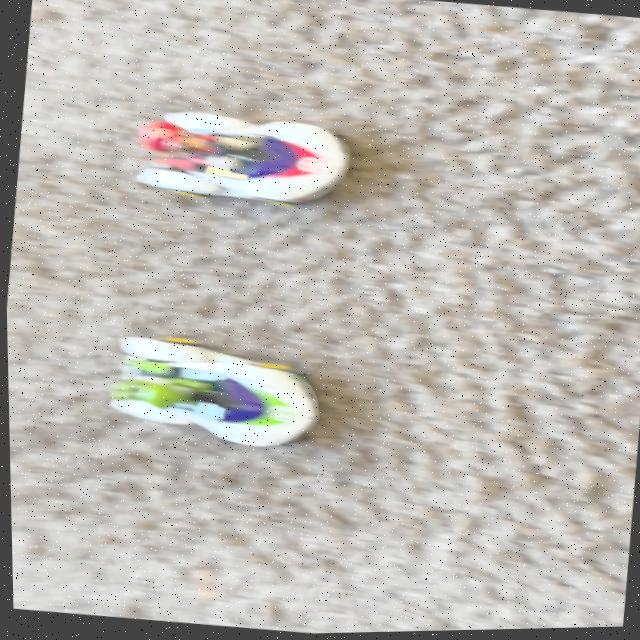mario: (122, 97, 371, 230)
yoshi: (91, 322, 342, 468)
